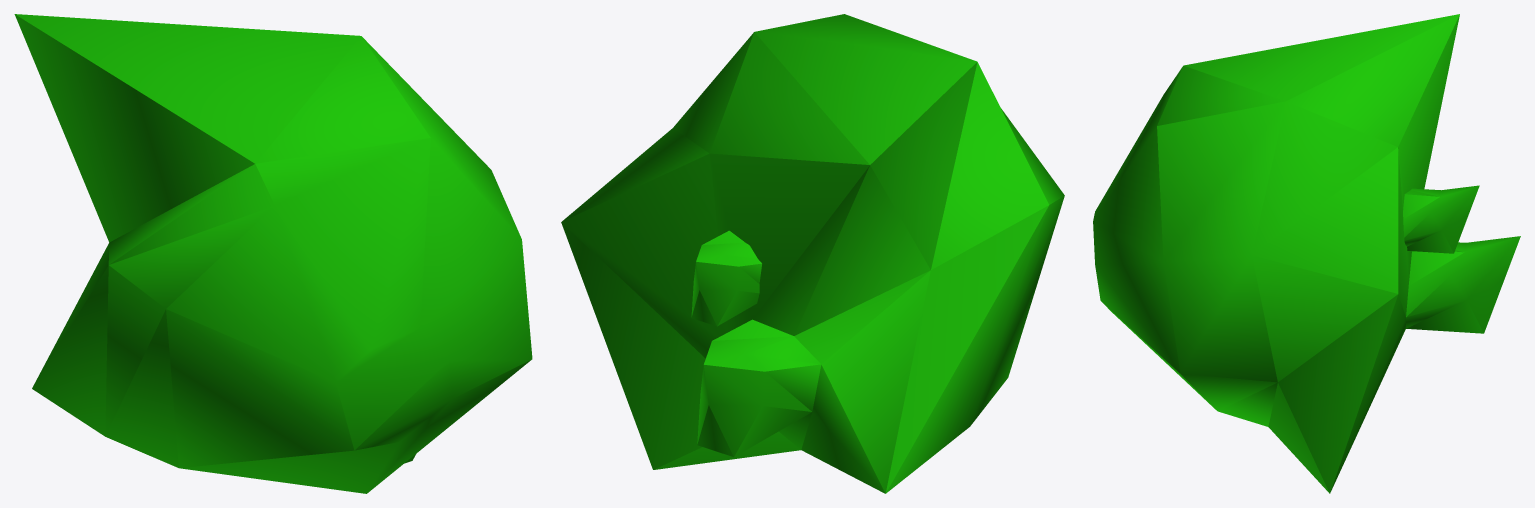
The model's file is goreRightLeg2.fbx.
3 views of the same model, side by side, from view 1: azimuth 30°, elevation 25°; view 2: azimuth 150°, elevation 25°; view 3: azimuth 270°, elevation 25° (orthographic). The views are drawn at different scales.
Visible parts, largest first — view 1: goreRightLeg2; view 2: goreRightLeg2; view 3: goreRightLeg2.
Part boxes in pixels (box(x1,y1,x2,y2)): goreRightLeg2: box(14, 14, 532, 493); goreRightLeg2: box(561, 14, 1064, 493); goreRightLeg2: box(1093, 14, 1520, 493).
Bounding box in the file's own units: 14.91 × 15.9 × 17.01.
Materials: 1 (1 with a texture image).
